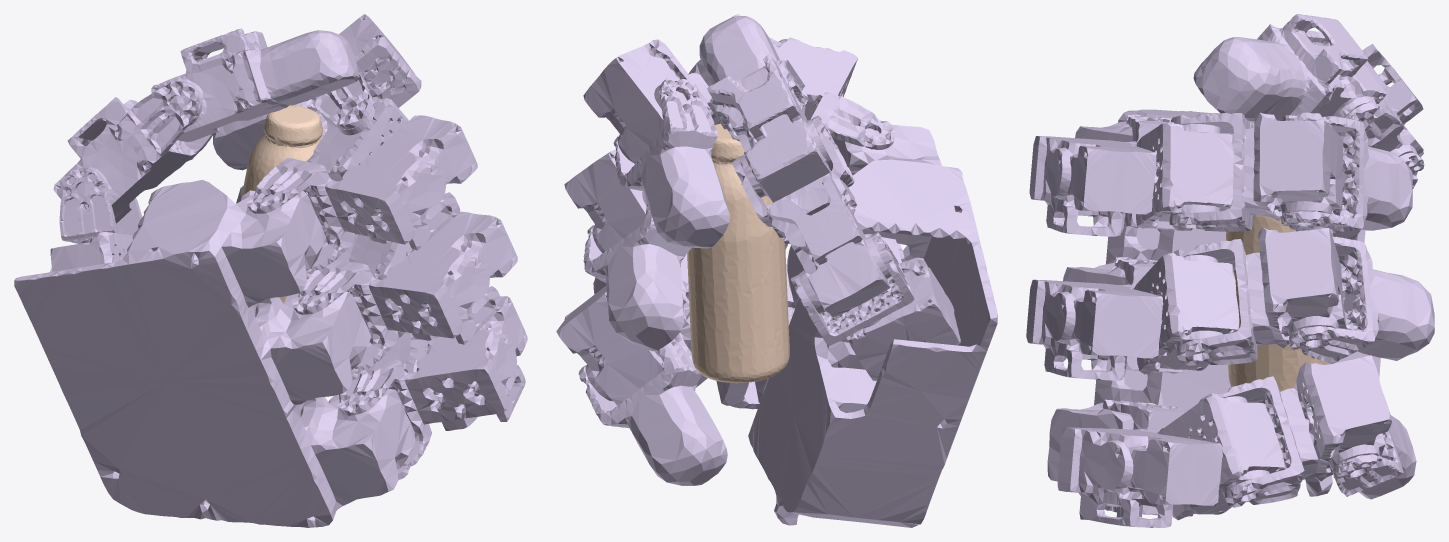
The model's file is 78f8657d6ba052-closed.glb.
The picture shows the model from 3 angles, left to right: view 1: azimuth 30°, elevation 25°; view 2: azimuth 150°, elevation 25°; view 3: azimuth 270°, elevation 25°; orthographic projection. The views are drawn at different scales.
Visible parts, largest first — view 1: LEAP_hand, world; view 2: LEAP_hand, world; view 3: LEAP_hand, world.
Part boxes in pixels (left/top/right/bottom): LEAP_hand: left=14, top=14, right=527, bottom=527; world: left=241, top=105, right=322, bottom=303; LEAP_hand: left=556, top=14, right=997, bottom=527; world: left=687, top=123, right=789, bottom=383; LEAP_hand: left=1026, top=14, right=1434, bottom=527; world: left=1225, top=207, right=1335, bottom=391.
Size of the model in its own units: 0.1867 by 0.1756 by 0.1294.
